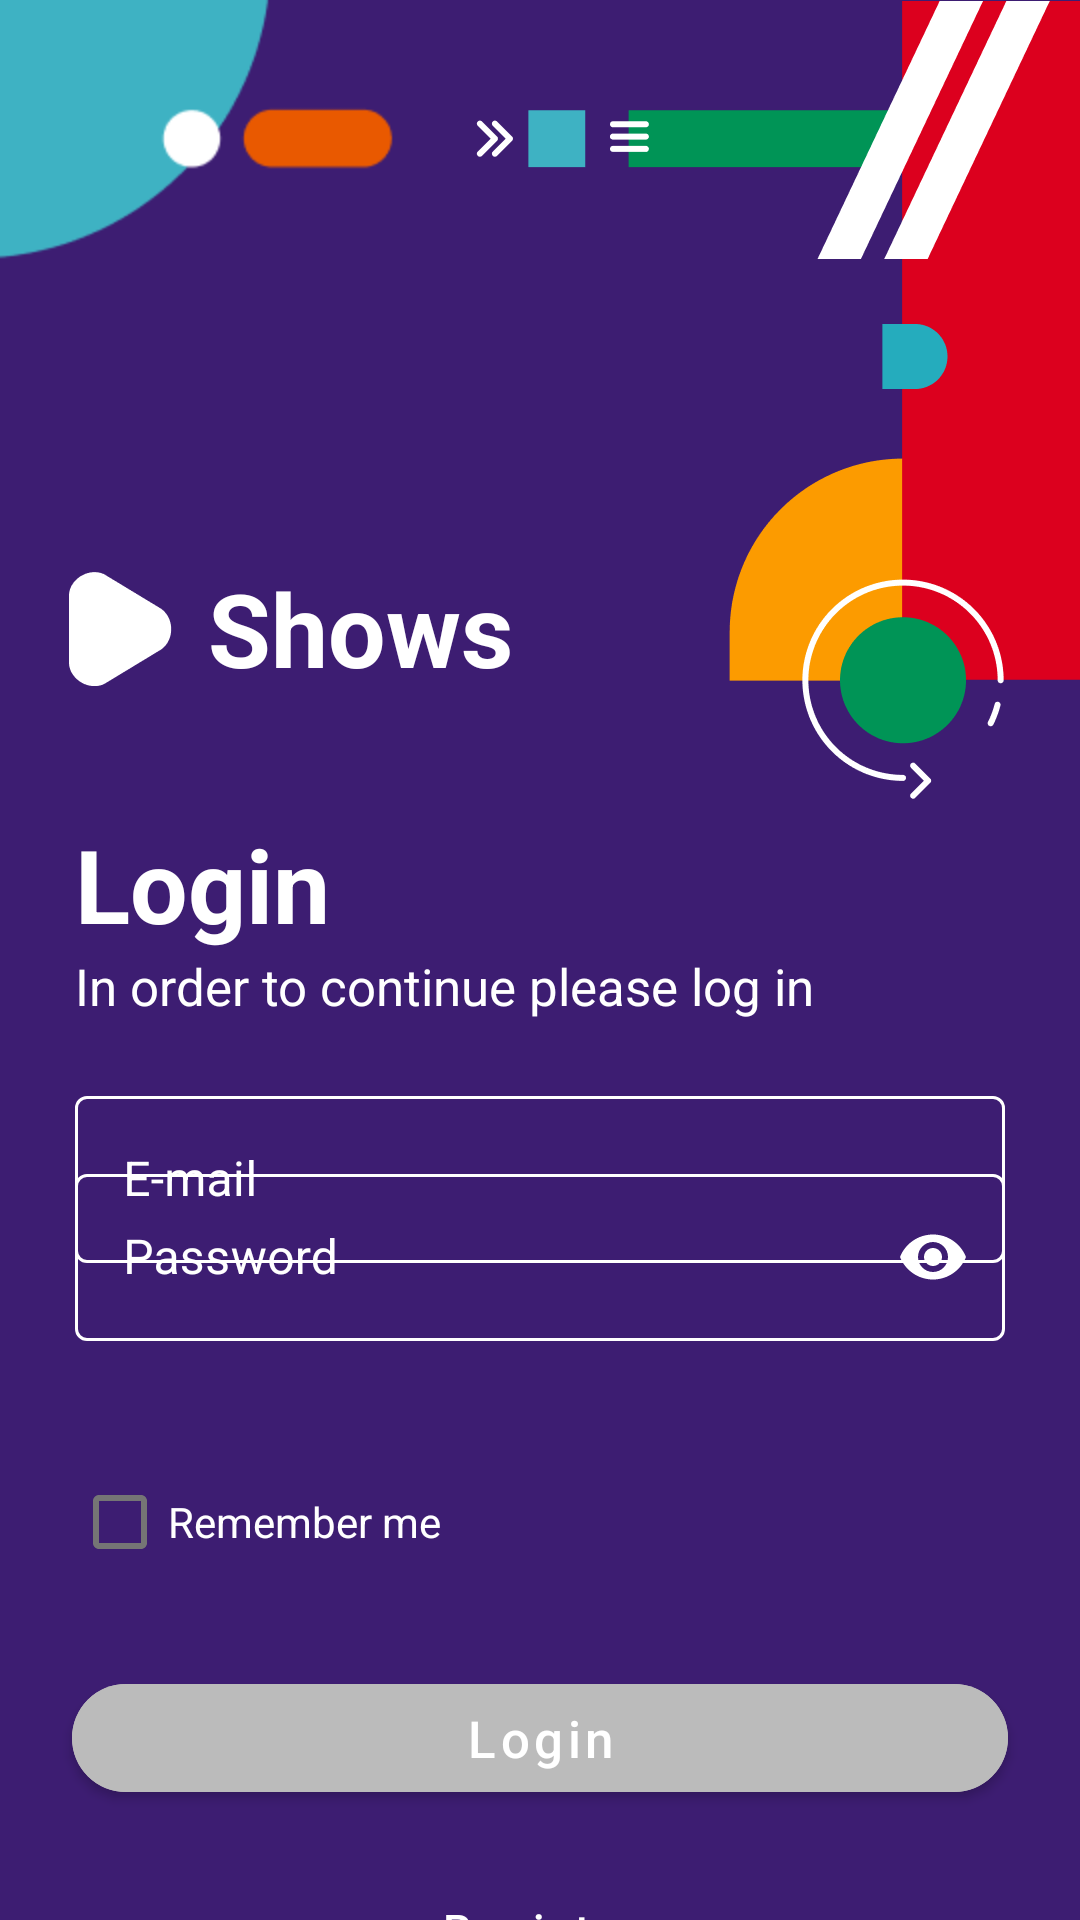

Point at icon controls on the screen. Image size 1080*1920, points as (x=x, y=y).
triangle: (x=120, y=629)
